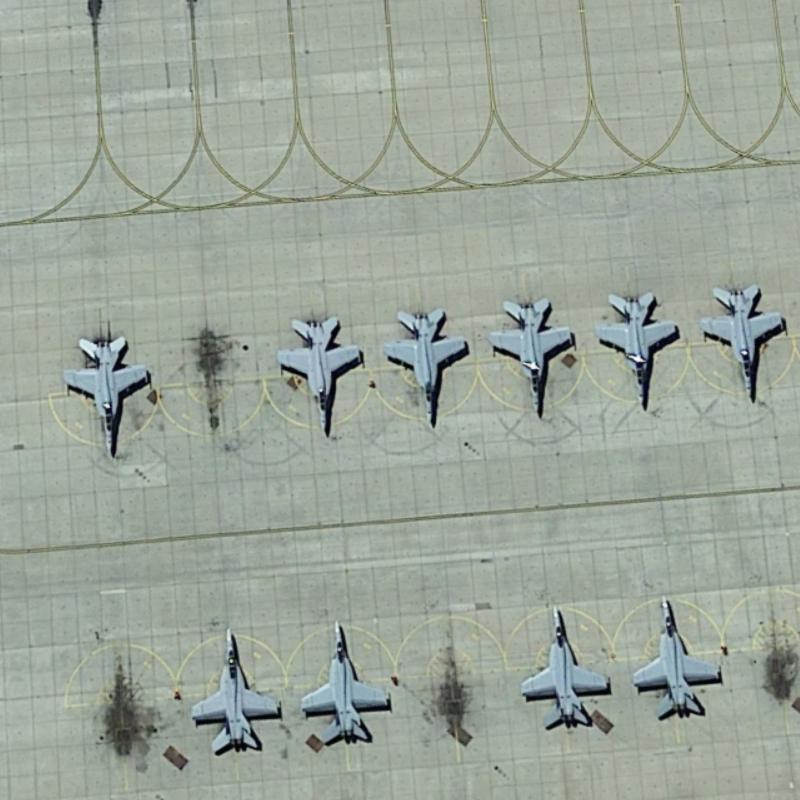A16: (184, 622, 285, 761), (626, 588, 727, 723), (293, 616, 394, 751), (517, 596, 614, 736), (56, 331, 154, 464), (270, 310, 368, 440), (483, 293, 578, 423), (378, 302, 472, 432), (696, 279, 788, 404), (592, 287, 680, 416)
